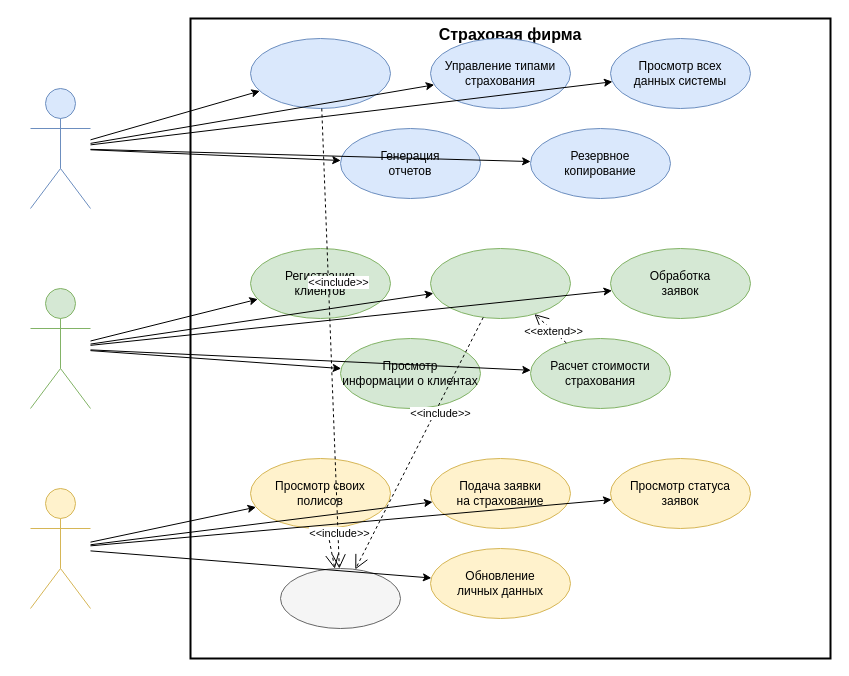
Some shapes in this 849 by 676 pixel diagram are drawn without their labels. Each missing label, with the box of its shape:
Авторизация: (280, 568, 400, 628)
Администратор: (30, 88, 90, 208)
Клиент: (30, 488, 90, 608)
Менеджер: (30, 288, 90, 408)
Создание полисов: (430, 248, 570, 318)
Управление пользователями: (250, 38, 390, 108)
